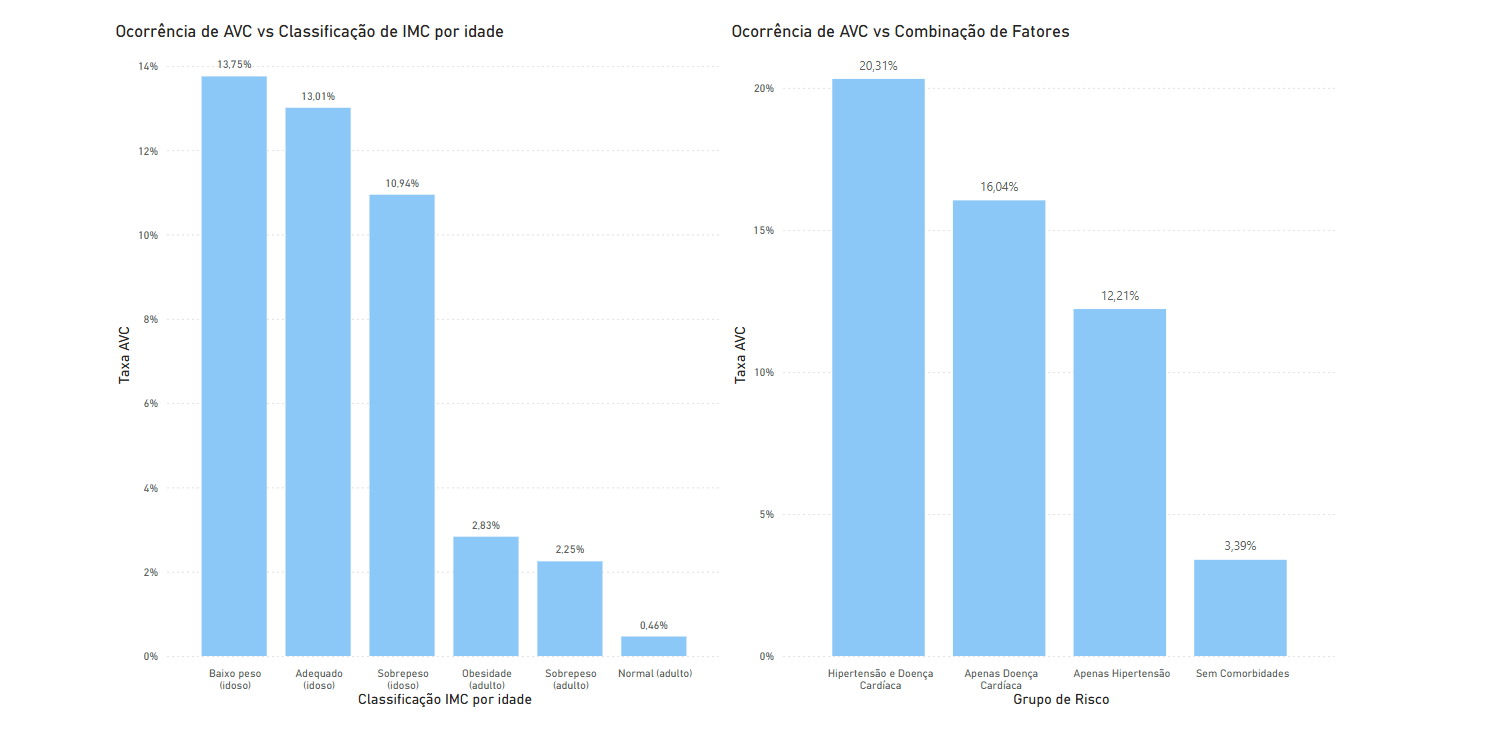

The dashboard page shown, as its layout file describes it:
{"tool":"powerbi","page":{"name":"Página 4","canvas":[1280,720],"ordinal":3},"visuals":[{"type":"columnChart","title":"Ocorrência de AVC vs Classificação de IMC por idade","fields":{"Category":["public pacientes_avc.Classificação IMC por idade"],"Y":["public pacientes_avc.Taxa AVC"]},"box":[24.5,13.6,615.7,691.9],"z":0},{"type":"clusteredColumnChart","title":"Ocorrência de AVC vs Combinação de Fatores","fields":{"Y":["public pacientes_avc.Taxa AVC"],"Category":["public pacientes_avc.Grupo de Risco"]},"box":[640.2,13.6,616.6,691.9],"z":1000}]}

Visuals, with their boxes on the page's 1280x720 design canvas (x1, y1, x2, y2). These are canvas units, not pixel positions in the 1496x746 screenshot, which may show the page scaled, cropped or inside an application window:
"Ocorrência de AVC vs Classificação de IMC por idade" columnChart: (x1=24, y1=14, x2=640, y2=706)
"Ocorrência de AVC vs Combinação de Fatores" clusteredColumnChart: (x1=640, y1=14, x2=1257, y2=706)
